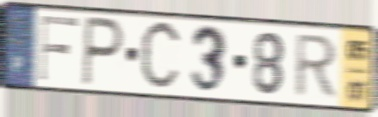3: (188, 22, 232, 97)
8: (252, 30, 287, 98)
C: (138, 18, 184, 96)
F: (37, 14, 81, 84)
P: (80, 14, 127, 90)
R: (292, 33, 341, 101)
